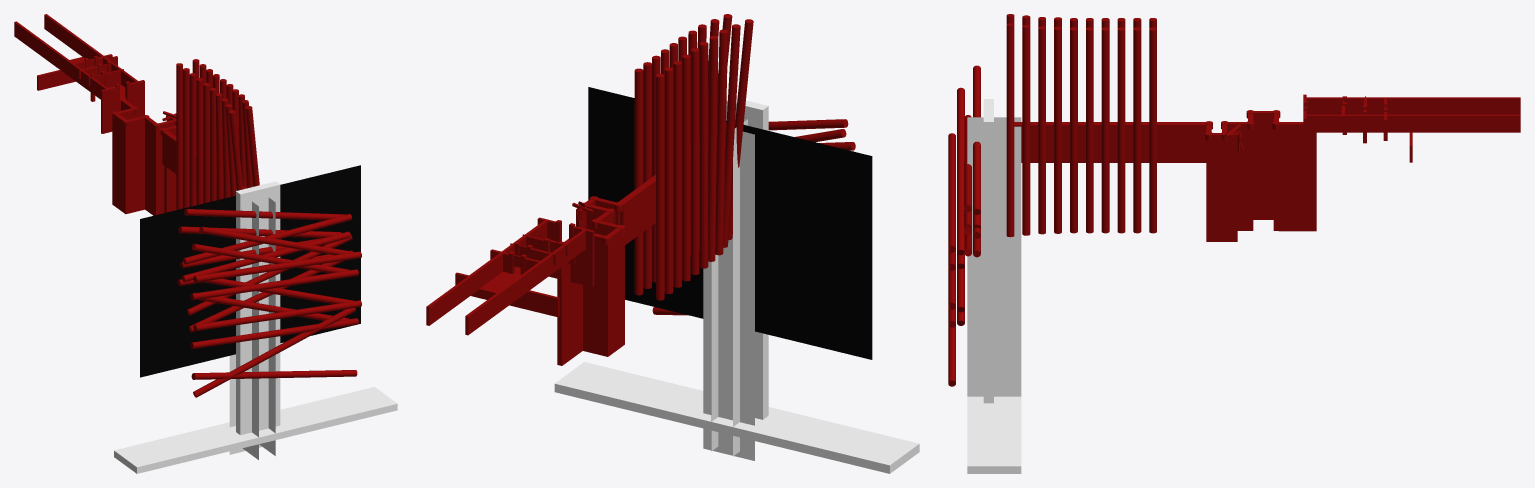
The model's file is Level Geometry.fbx.
The picture shows the model from 3 angles, left to right: view 1: azimuth 30°, elevation 25°; view 2: azimuth 150°, elevation 25°; view 3: azimuth 270°, elevation 25°; orthographic projection. The views are drawn at different scales.
Visible parts, largest first — view 1: Cube__30__3, winplane, Cube__40_, Cube__3_, Cube__37_, Cylinder__43_, Cylinder__42_, Cylinder__38_, Cylinder__44_, Cylinder__39_, Cube__36_, Cylinder__45_ (+34 smaller); view 2: Cube__30__3, winplane, Cube__38_, Cube__2_, Cylinder__9_, Cylinder__21_, Cube, Cube__36_, Cylinder__15_, Cylinder__11_, Cylinder__23_, Cylinder__13_ (+18 smaller); view 3: Cube__37_, winplane, Cube, Cube__40_, Cube__29__3, BigPlat__1_, Cube__2_, Cube__45_, Cube__4__1, Cube__46_, Cylinder__26_, Cylinder__24_ (+16 smaller).
Boxes of the visible parts, x1=… form: Cube__30__3: x1=140, y1=165, x2=360, y2=377; winplane: x1=114, y1=387, x2=397, y2=473; Cube__40_: x1=236, y1=181, x2=280, y2=435; Cube__3_: x1=123, y1=116, x2=144, y2=214; Cube__37_: x1=252, y1=186, x2=275, y2=455; Cylinder__43_: x1=190, y1=269, x2=358, y2=300; Cylinder__42_: x1=193, y1=251, x2=361, y2=282; Cylinder__38_: x1=193, y1=300, x2=361, y2=331; Cylinder__44_: x1=193, y1=307, x2=355, y2=397; Cylinder__39_: x1=190, y1=318, x2=358, y2=348; Cube__36_: x1=236, y1=190, x2=258, y2=459; Cylinder__45_: x1=191, y1=370, x2=357, y2=379; Cube__30__3: x1=588, y1=87, x2=872, y2=359; winplane: x1=554, y1=362, x2=919, y2=473; Cube__38_: x1=703, y1=131, x2=754, y2=460; Cube__2_: x1=603, y1=228, x2=622, y2=356; Cylinder__9_: x1=664, y1=67, x2=673, y2=293; Cylinder__21_: x1=699, y1=42, x2=708, y2=268; Cube: x1=557, y1=238, x2=582, y2=365; Cube__36_: x1=733, y1=119, x2=747, y2=456; Cylinder__15_: x1=682, y1=54, x2=690, y2=281; Cylinder__11_: x1=656, y1=73, x2=664, y2=300; Cylinder__23_: x1=715, y1=29, x2=727, y2=255; Cylinder__13_: x1=673, y1=61, x2=681, y2=287; Cube__37_: x1=967, y1=126, x2=1021, y2=396; winplane: x1=967, y1=396, x2=1021, y2=473; Cube: x1=1278, y1=122, x2=1316, y2=231; Cube__40_: x1=983, y1=99, x2=993, y2=403; Cube__29__3: x1=1109, y1=122, x2=1206, y2=162; BigPlat__1_: x1=1211, y1=133, x2=1237, y2=241; Cube__2_: x1=1253, y1=111, x2=1273, y2=219; Cube__45_: x1=1413, y1=114, x2=1520, y2=132; Cube__4__1: x1=1305, y1=114, x2=1413, y2=132; Cube__46_: x1=1413, y1=97, x2=1520, y2=114; Cylinder__26_: x1=1006, y1=23, x2=1014, y2=237; Cylinder__24_: x1=1022, y1=25, x2=1030, y2=235.
Bounding box in the file's own units: 11099 × 13923 × 18068.
